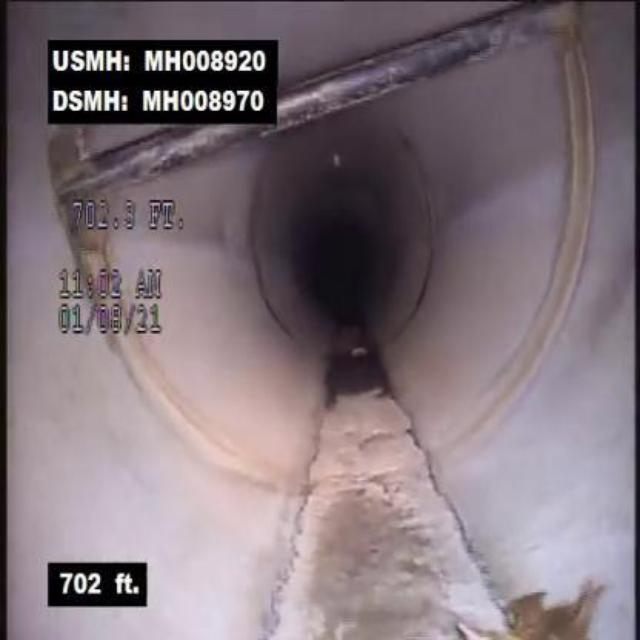Utility intrusion: (280, 5, 594, 135), (48, 129, 251, 192)
